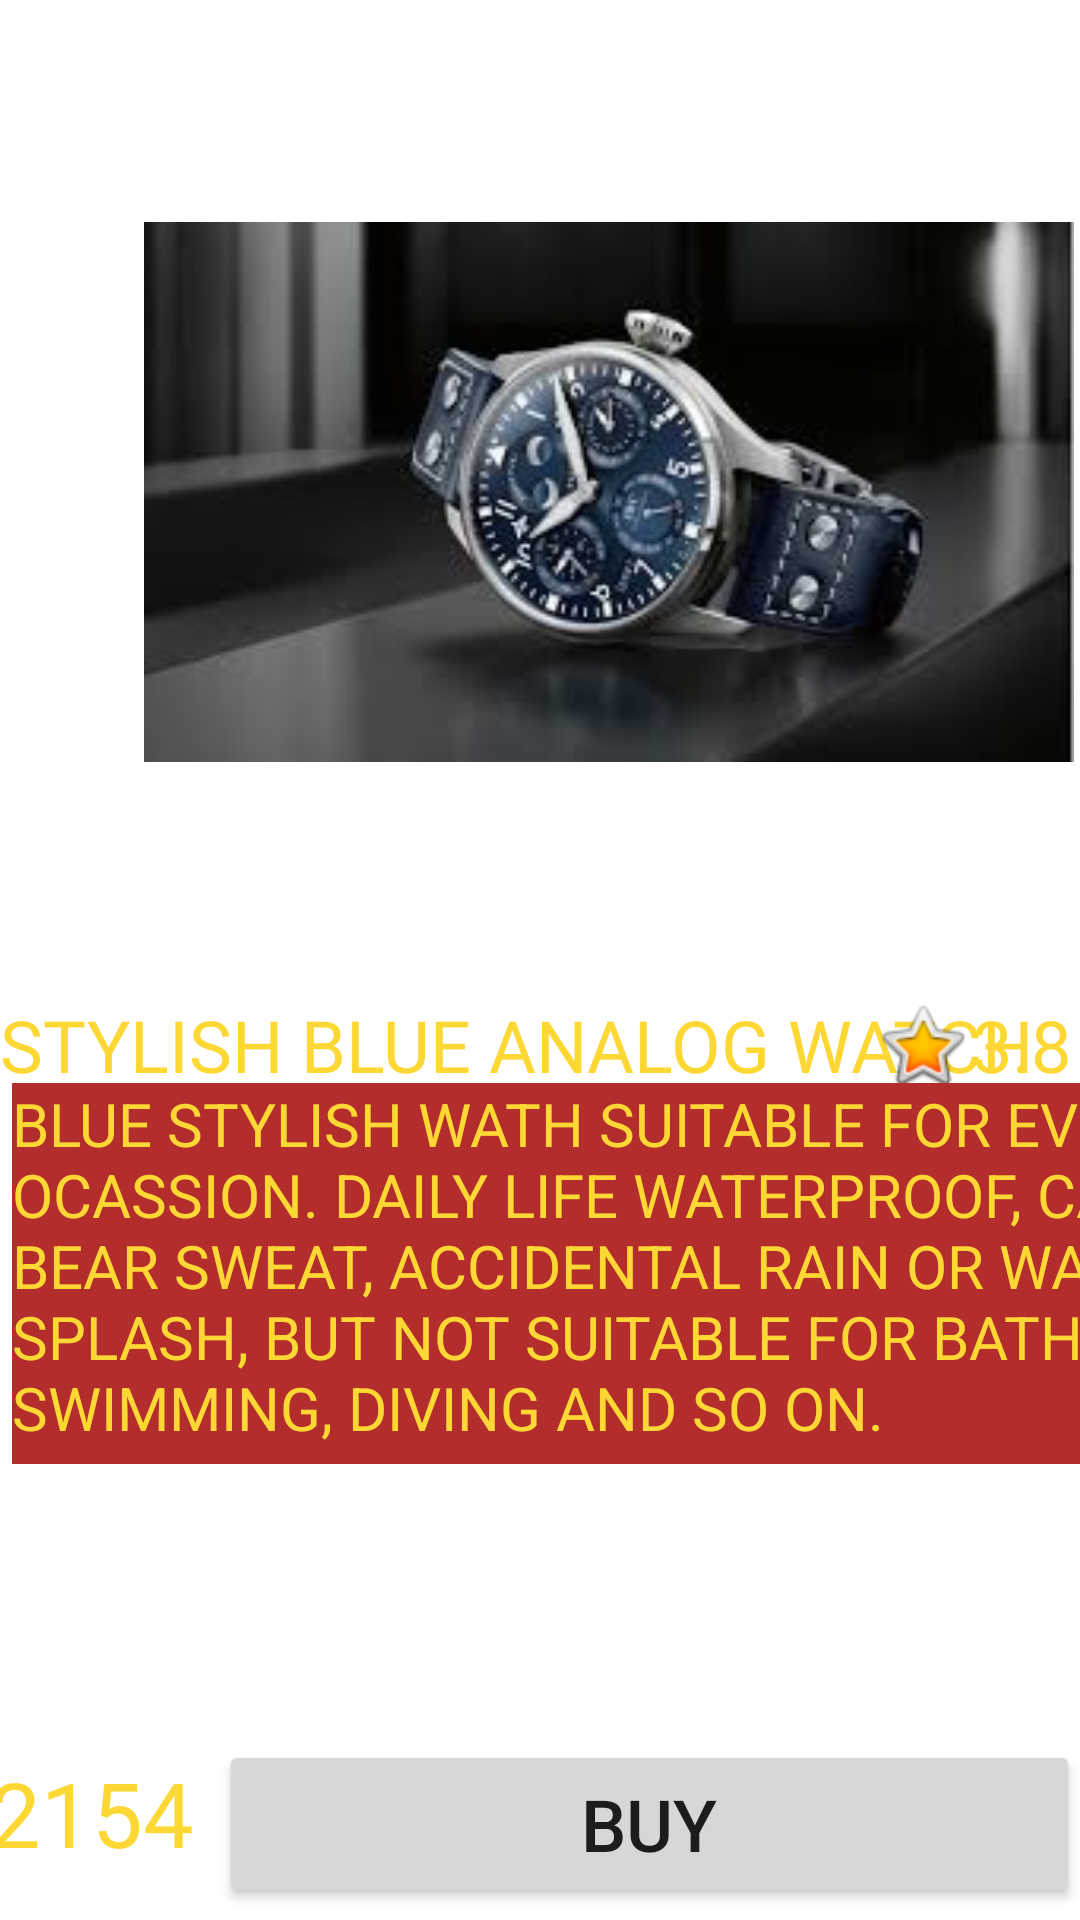

Icons on this 1080 × 1920 Android screen, each with the point to tap as (x,y):
star on: (922,1045)
